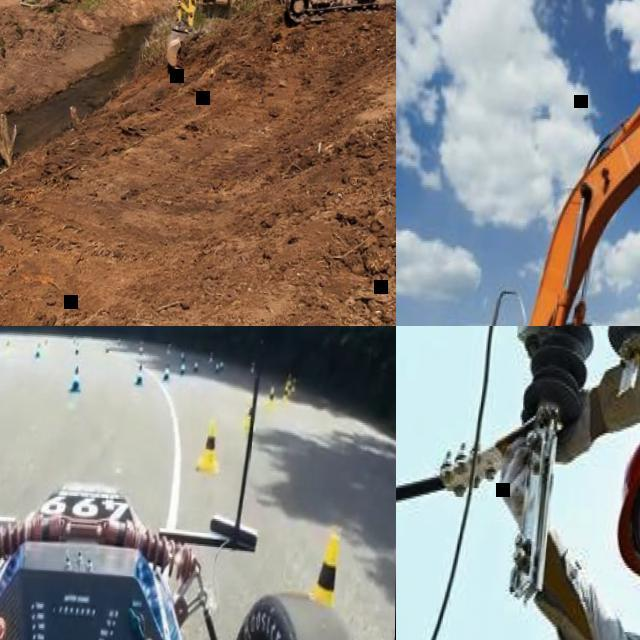helmet: (613, 413, 640, 583)
